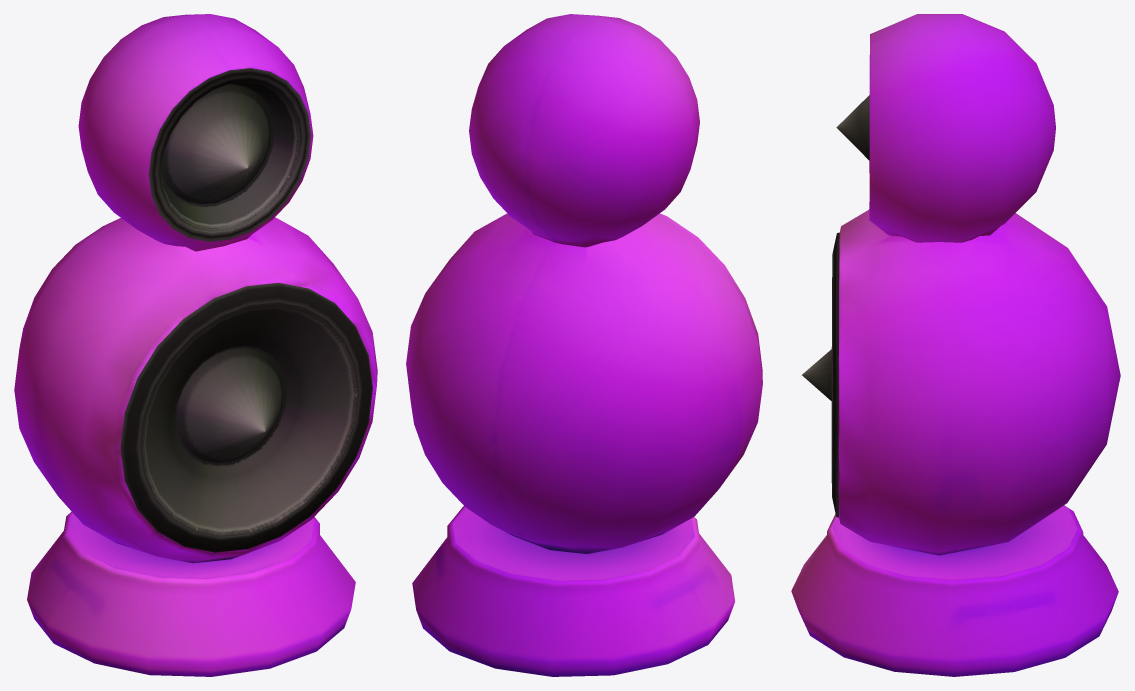
Rendered from Stereo.glb.
The picture shows the model from 3 angles, left to right: view 1: azimuth 30°, elevation 25°; view 2: azimuth 150°, elevation 25°; view 3: azimuth 270°, elevation 25°; orthographic projection.
Parts seen in each view (by area): view 1: Stereo; view 2: Stereo; view 3: Stereo.
Part boxes in pixels (bbox=[...]): Stereo: bbox=[14, 14, 377, 676]; Stereo: bbox=[406, 14, 762, 676]; Stereo: bbox=[791, 14, 1120, 676].
Size of what is drawn, in the model's own units: 2.31 by 4.11 by 2.1.
1 material, 1 textured.
